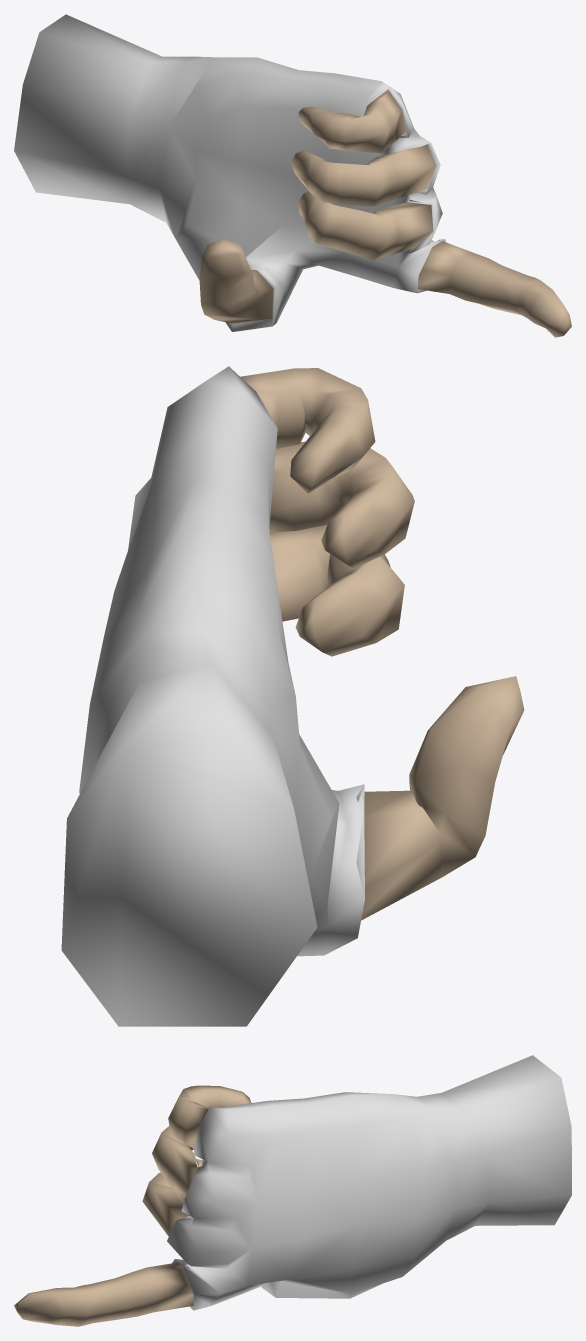
Rendered from hand_gloved_point.fbx.
The picture shows the model from 3 angles, top to bottom: view 1: azimuth 30°, elevation 25°; view 2: azimuth 150°, elevation 25°; view 3: azimuth 270°, elevation 25°; orthographic projection. The views are drawn at different scales.
Parts seen in each view (by area): view 1: mesh; view 2: mesh; view 3: mesh.
Part boxes in pixels (left/top/right/bottom): mesh: left=14, top=14, right=571, bottom=337; mesh: left=61, top=366, right=524, bottom=1026; mesh: left=14, top=1055, right=571, bottom=1326.
Bounding box in the file's own units: 704 × 573 × 1230.
